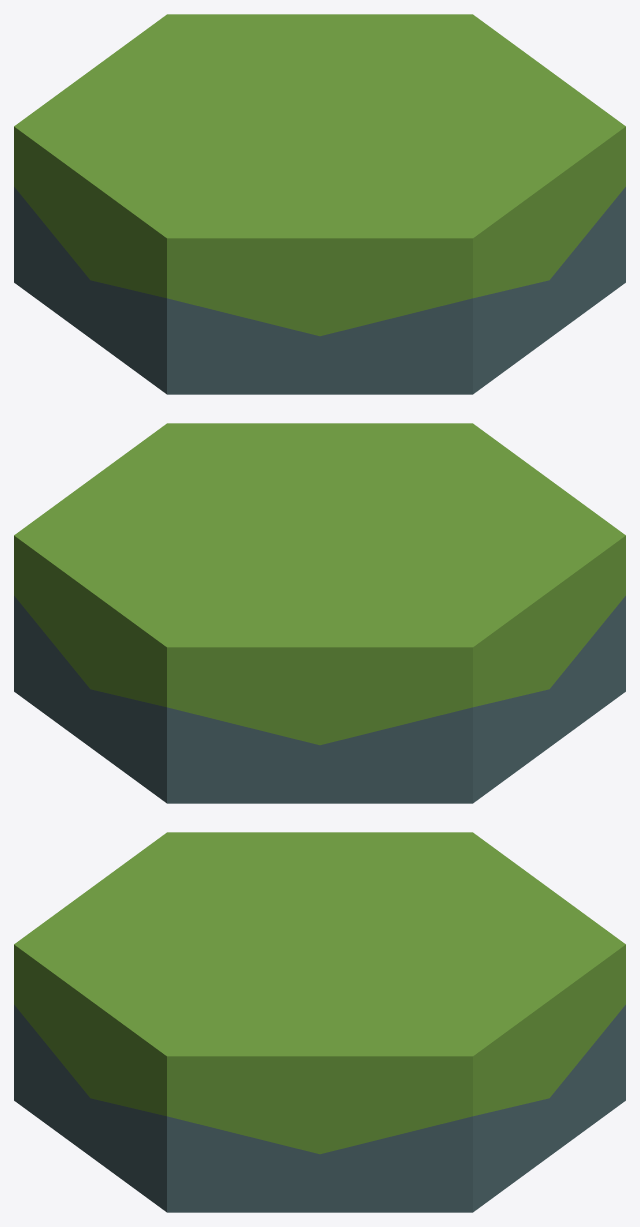
The model's file is dirty1.glb.
3 views of the same model, one above another, from view 1: azimuth 30°, elevation 25°; view 2: azimuth 150°, elevation 25°; view 3: azimuth 270°, elevation 25° (orthographic).
Visible parts, largest first — view 1: земля; view 2: земля; view 3: земля.
Boxes of the visible parts, <box> form: земля: <box>14,14,625,394</box>; земля: <box>14,423,625,803</box>; земля: <box>14,832,625,1212</box>.
Size of the model in its own units: 4.79 by 1.56 by 5.53.
Materials: 1 (1 with a texture image).
